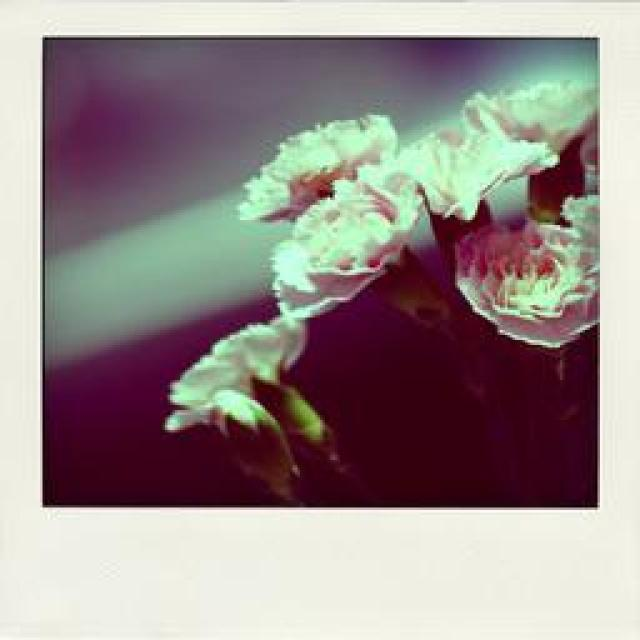carnation: (154, 310, 370, 476)
